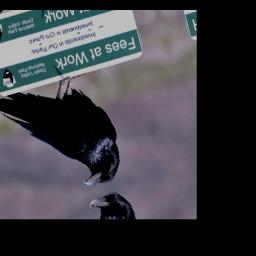Crow: (0, 54, 128, 211)
